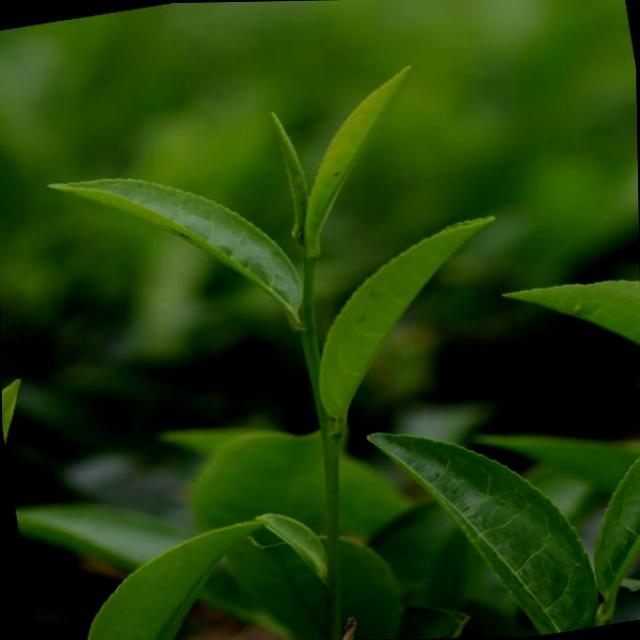Stem: (304, 257, 314, 277)
